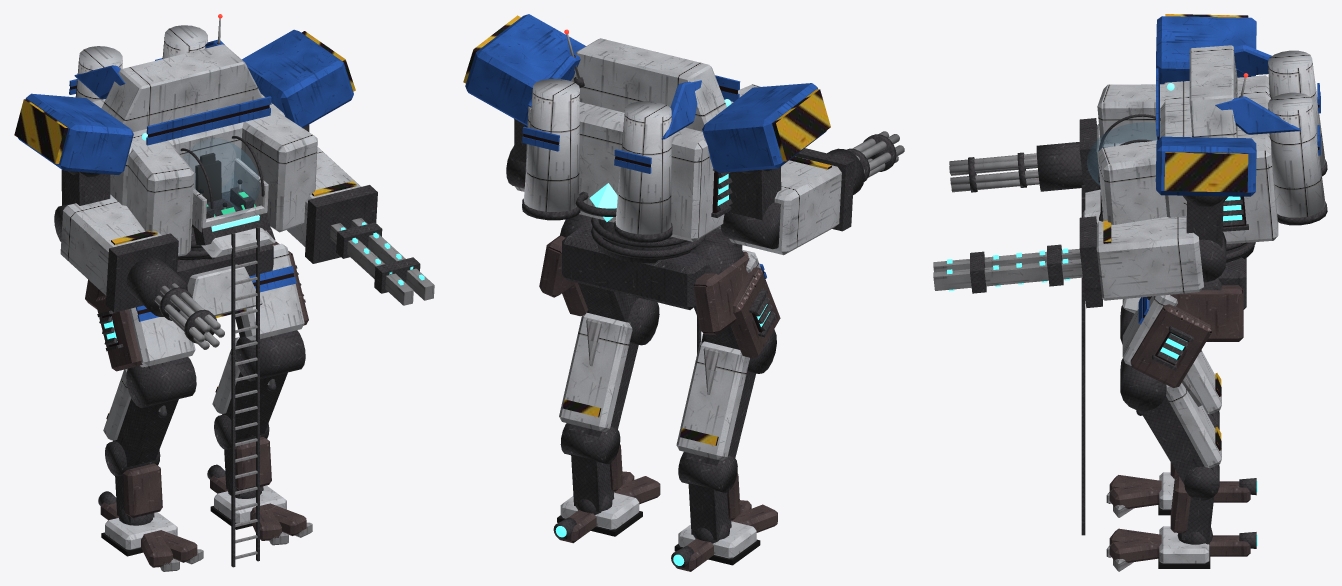
File: mech_breeze.glb
The picture shows the model from 3 angles, left to right: view 1: azimuth 30°, elevation 25°; view 2: azimuth 150°, elevation 25°; view 3: azimuth 270°, elevation 25°; orthographic projection. The views are drawn at different scales.
Parts seen in each view (by area): view 1: torso_breeze_armor, shoulder_L_breeze_livery, shoulder_R_breeze_livery, forearm_R_breeze_armor, cockpit_breeze_glass, forearm_L_breeze_frame, torso_breeze_livery, cockpit_breeze_armor, ladder_breeze_dark, forearm_R_breeze_frame, hand_L_breeze_metal, thigh_L_breeze_armor (+30 smaller); view 2: torso_breeze_armor, shoulder_L_breeze_livery, pelvis_breeze_frame, shoulder_R_breeze_livery, shin_L_breeze_armor, shin_R_breeze_armor, forearm_R_breeze_armor, pelvis_breeze_armor2, torso_breeze_livery, shoulder_R_breeze_hazard, thigh_R_breeze_frame, thigh_R_breeze_armor2 (+28 smaller); view 3: torso_breeze_armor, forearm_L_breeze_armor, shoulder_R_breeze_livery, hand_L_breeze_metal, shoulder_L_breeze_hazard, thigh_L_breeze_armor2, torso_breeze_livery, shoulder_L_breeze_livery, pelvis_breeze_armor2, hand_R_breeze_metal, shin_L_breeze_frame, shin_L_breeze_armor (+26 smaller).
Boxes of the visible parts, x1=… form: torso_breeze_armor: x1=75, y1=25, x2=317, y2=256; shoulder_L_breeze_livery: x1=242, y1=29, x2=353, y2=127; shoulder_R_breeze_livery: x1=18, y1=93, x2=133, y2=174; forearm_R_breeze_armor: x1=60, y1=194, x2=161, y2=295; cockpit_breeze_glass: x1=183, y1=138, x2=259, y2=217; forearm_L_breeze_frame: x1=305, y1=185, x2=377, y2=263; torso_breeze_livery: x1=69, y1=39, x2=271, y2=145; cockpit_breeze_armor: x1=192, y1=158, x2=275, y2=258; ladder_breeze_dark: x1=231, y1=226, x2=259, y2=567; forearm_R_breeze_frame: x1=105, y1=233, x2=178, y2=312; hand_L_breeze_metal: x1=330, y1=218, x2=434, y2=305; thigh_L_breeze_armor: x1=240, y1=243, x2=304, y2=340; torso_breeze_armor: x1=523, y1=38, x2=760, y2=241; shoulder_L_breeze_livery: x1=465, y1=14, x2=585, y2=125; pelvis_breeze_frame: x1=562, y1=226, x2=742, y2=309; shoulder_R_breeze_livery: x1=702, y1=83, x2=826, y2=172; shin_L_breeze_armor: x1=559, y1=313, x2=632, y2=431; shin_R_breeze_armor: x1=676, y1=341, x2=749, y2=460; forearm_R_breeze_armor: x1=729, y1=156, x2=841, y2=255; pelvis_breeze_armor2: x1=539, y1=235, x2=749, y2=335; torso_breeze_livery: x1=522, y1=54, x2=740, y2=173; shoulder_R_breeze_hazard: x1=772, y1=89, x2=830, y2=161; thigh_R_breeze_frame: x1=690, y1=239, x2=776, y2=349; thigh_R_breeze_armor2: x1=730, y1=267, x2=780, y2=358; torso_breeze_armor: x1=1097, y1=45, x2=1325, y2=244; forearm_L_breeze_armor: x1=1096, y1=216, x2=1203, y2=300; shoulder_R_breeze_livery: x1=1156, y1=16, x2=1256, y2=84; hand_L_breeze_metal: x1=933, y1=248, x2=1082, y2=290; shoulder_L_breeze_hazard: x1=1164, y1=152, x2=1248, y2=192; thigh_L_breeze_armor2: x1=1130, y1=304, x2=1212, y2=387; torso_breeze_livery: x1=1156, y1=45, x2=1320, y2=155; shoulder_L_breeze_livery: x1=1155, y1=136, x2=1256, y2=196; pelvis_breeze_armor2: x1=1170, y1=285, x2=1243, y2=341; hand_R_breeze_metal: x1=949, y1=153, x2=1039, y2=192; shin_L_breeze_frame: x1=1136, y1=396, x2=1213, y2=484; shin_L_breeze_armor: x1=1166, y1=383, x2=1221, y2=468.
Size of the model in its own units: 7.79 by 12 by 8.75.
16 materials, 7 textured.
